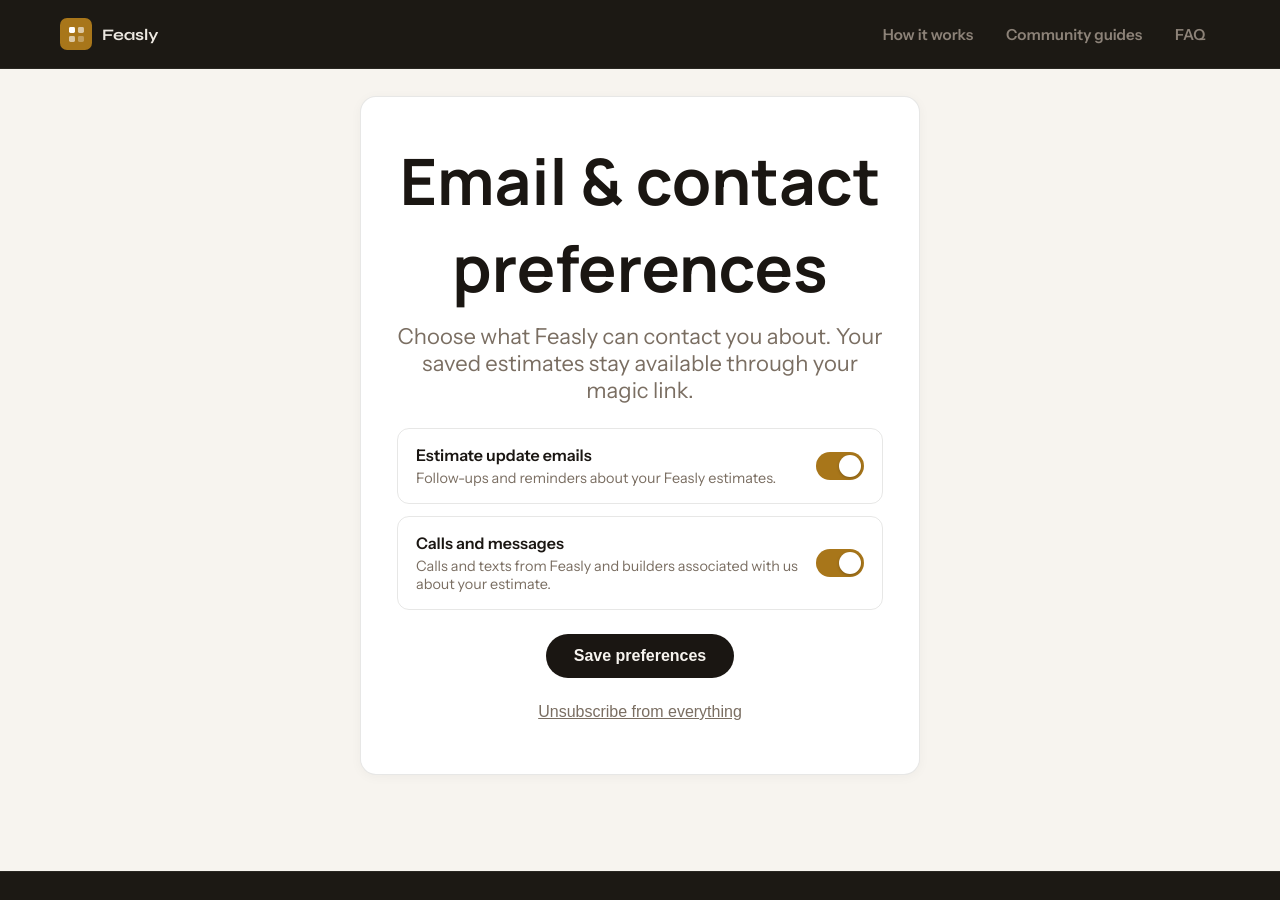
UnsubscribePageComponent › saves the granular preferences and shows the done screen
Click the 2nd checkbox with class "switch".
click(840, 563)  # box [816, 549, 864, 577]
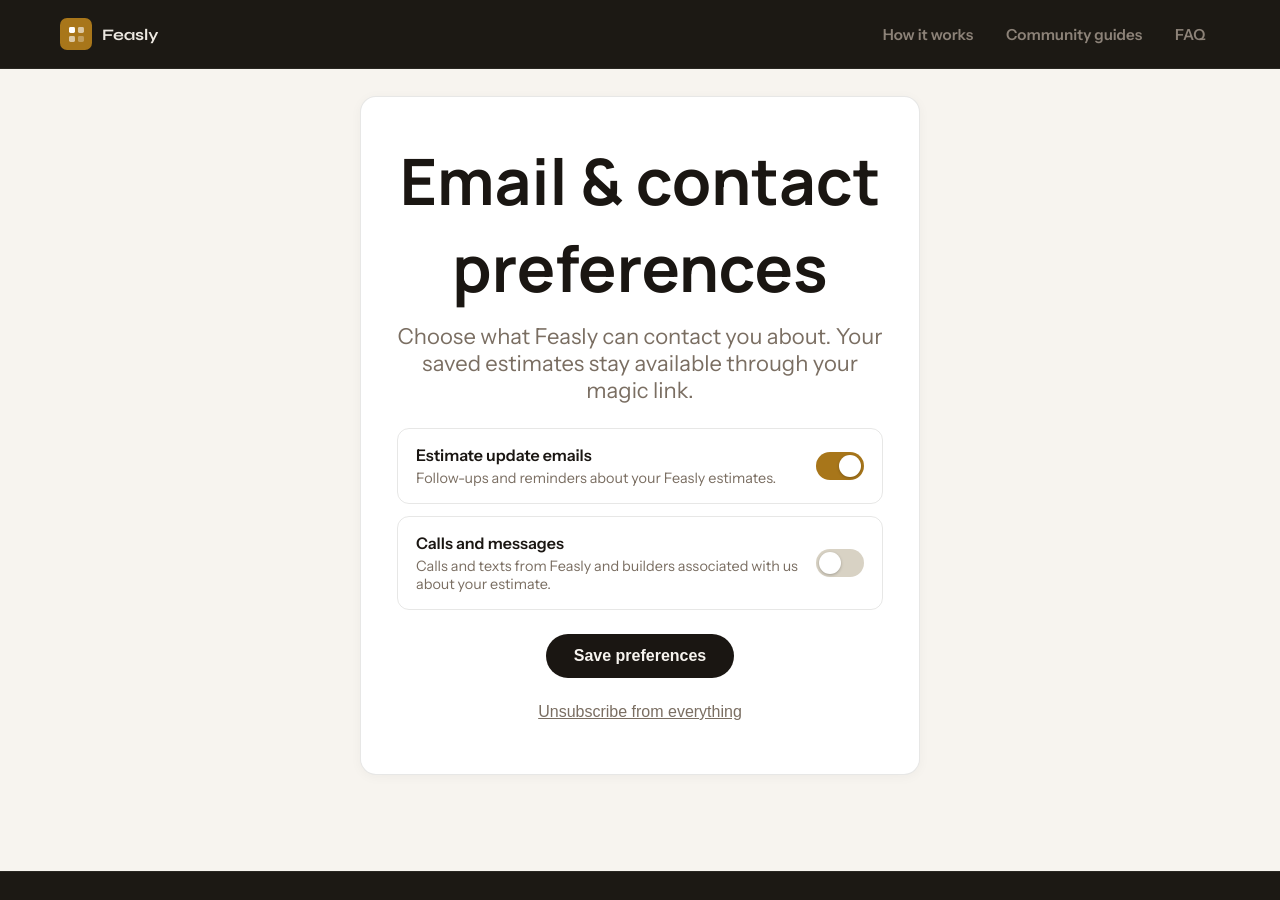
Click the button with class "cta".
click(640, 656)  # box [546, 634, 734, 678]
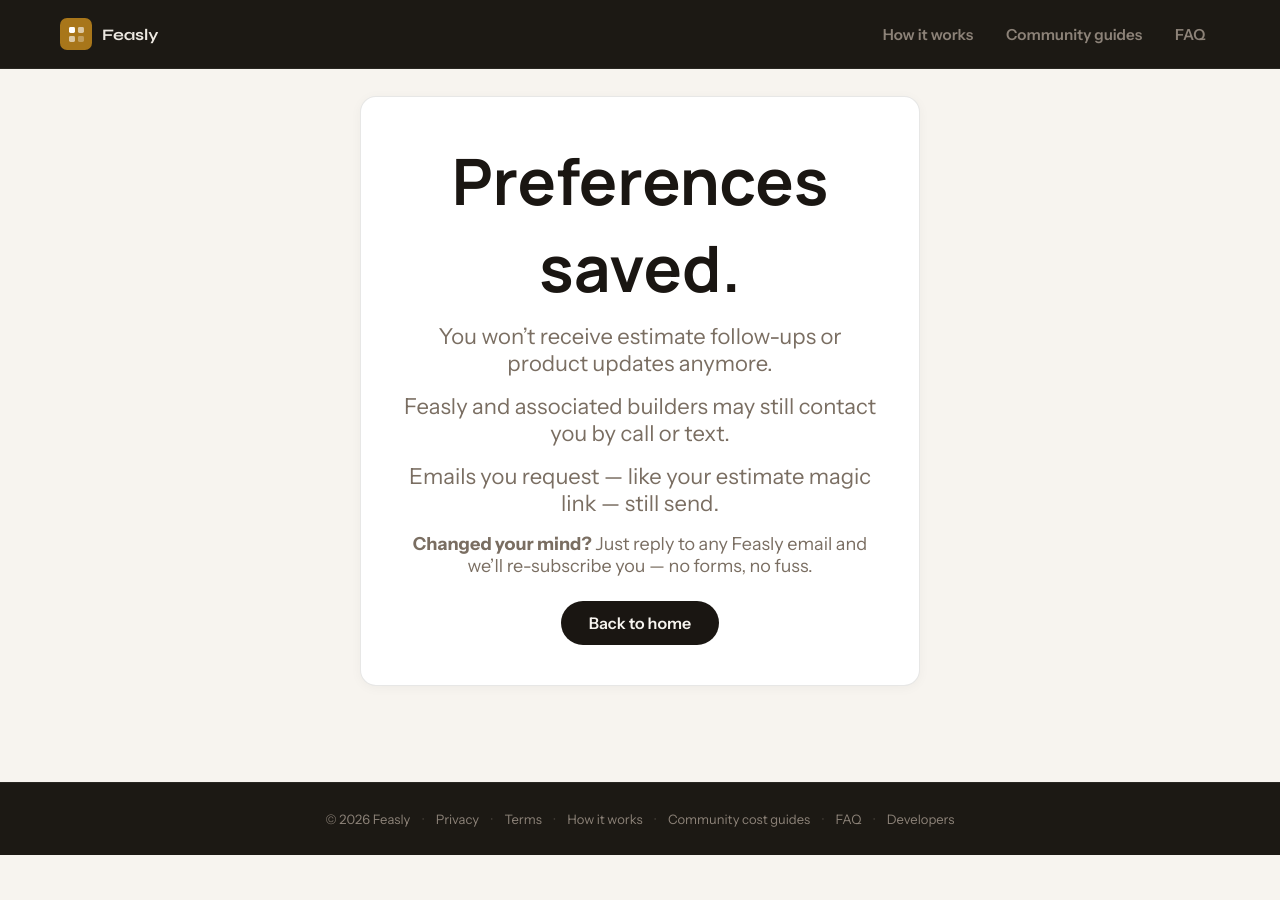
Now the text "Preferences saved." is shown, box [452, 137, 828, 311]
